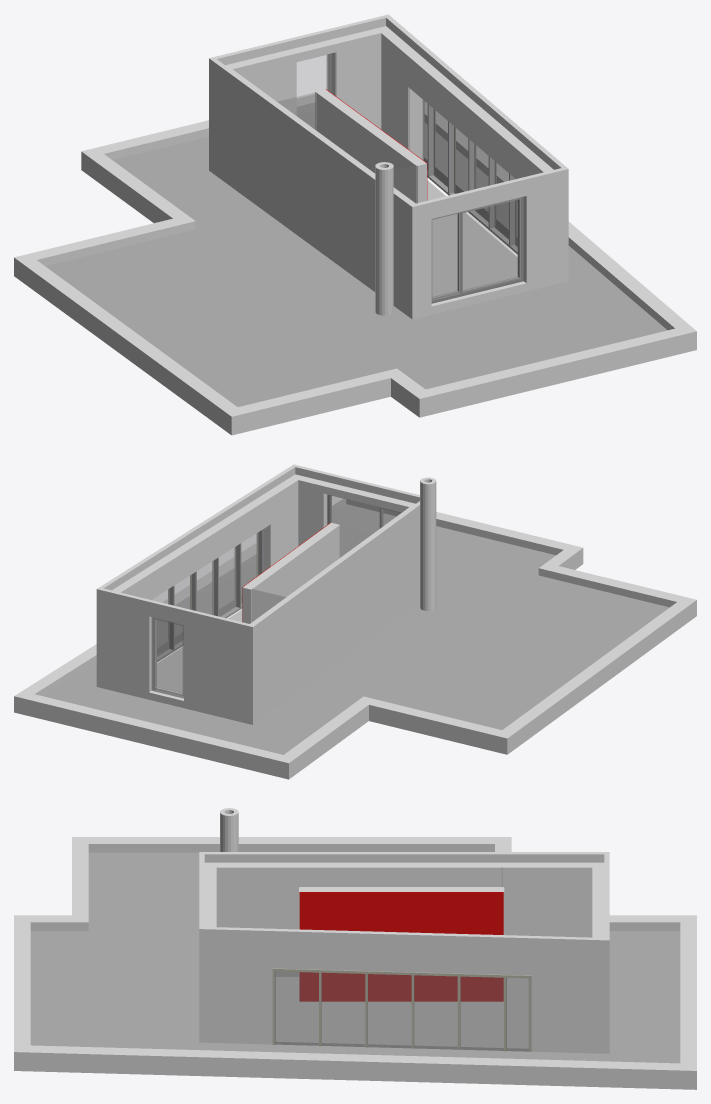
3 views of the same model, one above another, from view 1: azimuth 30°, elevation 25°; view 2: azimuth 150°, elevation 25°; view 3: azimuth 270°, elevation 25° (orthographic). The views are drawn at different scales.
Parts seen in each view (by area): view 1: 0hm_TZ7fj2wQv5AxxV1KqF, 2WZdO$9lP51fVli8sT5dFZ, 1XbKhGD91DvhOpYZbhzGTI, 2ABTOtP4HAZgIuV7LUYbfs, 2eKNhkT$f0P8WjqeWWO9d3, 3v_fSEaFj0kvittt0GMC6P, 3VFVgZuu9FQuS2Mqppb_Sx, 1xDxwUqSzFmuKUZMtQ$inu, 0esmtE2Hf1Gh7NvUntvp15, 1E8YkwPMfB$h99jtn_uAjI, 2k7AL9Q4vAfOld2Ju8s3DV, 1BGpia0iv9cfH1lqT0_P80 (+15 smaller); view 2: 0hm_TZ7fj2wQv5AxxV1KqF, 2WZdO$9lP51fVli8sT5dFZ, 1mrgg_O_bBBv_tvdtVwK59, 1JvbY8kMDEABlCGvBALl1o, 3VFVgZuu9FQuS2Mqppb_Sx, 3v_fSEaFj0kvittt0GMC6P, 1E8YkwPMfB$h99jtn_uAjI, 3qjAeGBfzBuuFMRvmfvcZp, 12tTUwhDX7_Q0B3Y0eszsq, 1BGpia0iv9cfH1lqT0_P80, 3fk360iVDEdvsphxoNSy5M, 2eKNhkT$f0P8WjqeWWO9d3 (+16 smaller); view 3: 0hm_TZ7fj2wQv5AxxV1KqF, 1E8YkwPMfB$h99jtn_uAjI, 1BGpia0iv9cfH1lqT0_P80, 2D8Lqs0AfAL91eMWImqY0y, 0esmtE2Hf1Gh7NvUntvp15, 2WZdO$9lP51fVli8sT5dFZ, 3yGz3Axn9C_Oiq75x5GOZW, 3v_fSEaFj0kvittt0GMC6P, 0fovPR3hjBTOiDxHc0SKR9, 2UKE52UPL1ePRWFkZqVfWm, 28Fol_2rT8D93IPNMW2ztB, 14rw$C3xD3ZeUJL3YaqCEK (+13 smaller).
Part boxes in pixels (x1,y1,x2,y2): 0hm_TZ7fj2wQv5AxxV1KqF: (45, 111, 667, 406); 2WZdO$9lP51fVli8sT5dFZ: (211, 59, 414, 317); 1XbKhGD91DvhOpYZbhzGTI: (409, 167, 568, 319); 2ABTOtP4HAZgIuV7LUYbfs: (431, 196, 523, 303); 2eKNhkT$f0P8WjqeWWO9d3: (416, 326, 696, 417); 3v_fSEaFj0kvittt0GMC6P: (16, 258, 242, 435); 3VFVgZuu9FQuS2Mqppb_Sx: (381, 32, 543, 178); 1xDxwUqSzFmuKUZMtQ$inu: (232, 32, 381, 129); 0esmtE2Hf1Gh7NvUntvp15: (427, 180, 517, 296); 1E8YkwPMfB$h99jtn_uAjI: (377, 14, 565, 171); 2k7AL9Q4vAfOld2Ju8s3DV: (234, 368, 401, 433); 1BGpia0iv9cfH1lqT0_P80: (424, 101, 693, 330); 0hm_TZ7fj2wQv5AxxV1KqF: (43, 504, 669, 754); 2WZdO$9lP51fVli8sT5dFZ: (250, 501, 419, 722); 1mrgg_O_bBBv_tvdtVwK59: (100, 588, 255, 724); 1JvbY8kMDEABlCGvBALl1o: (14, 692, 291, 779); 3VFVgZuu9FQuS2Mqppb_Sx: (120, 480, 298, 599); 3v_fSEaFj0kvittt0GMC6P: (502, 598, 696, 752); 1E8YkwPMfB$h99jtn_uAjI: (96, 466, 297, 687); 3qjAeGBfzBuuFMRvmfvcZp: (359, 696, 509, 754); 12tTUwhDX7_Q0B3Y0eszsq: (252, 525, 338, 621); 1BGpia0iv9cfH1lqT0_P80: (17, 496, 346, 695); 3fk360iVDEdvsphxoNSy5M: (151, 617, 183, 698); 2eKNhkT$f0P8WjqeWWO9d3: (346, 499, 583, 565); 0hm_TZ7fj2wQv5AxxV1KqF: (30, 852, 680, 1063); 1E8YkwPMfB$h99jtn_uAjI: (204, 927, 609, 1053); 1BGpia0iv9cfH1lqT0_P80: (19, 1045, 691, 1089); 2D8Lqs0AfAL91eMWImqY0y: (299, 892, 503, 1001); 0esmtE2Hf1Gh7NvUntvp15: (275, 977, 528, 1051); 2WZdO$9lP51fVli8sT5dFZ: (204, 852, 604, 887); 3yGz3Axn9C_Oiq75x5GOZW: (502, 867, 592, 937); 3v_fSEaFj0kvittt0GMC6P: (72, 837, 505, 852); 0fovPR3hjBTOiDxHc0SKR9: (216, 867, 301, 976); 2UKE52UPL1ePRWFkZqVfWm: (301, 867, 501, 886); 28Fol_2rT8D93IPNMW2ztB: (367, 974, 411, 1048); 14rw$C3xD3ZeUJL3YaqCEK: (321, 972, 365, 1046).
Bounding box in the file's own units: 11.94 × 3.75 × 14.73.
